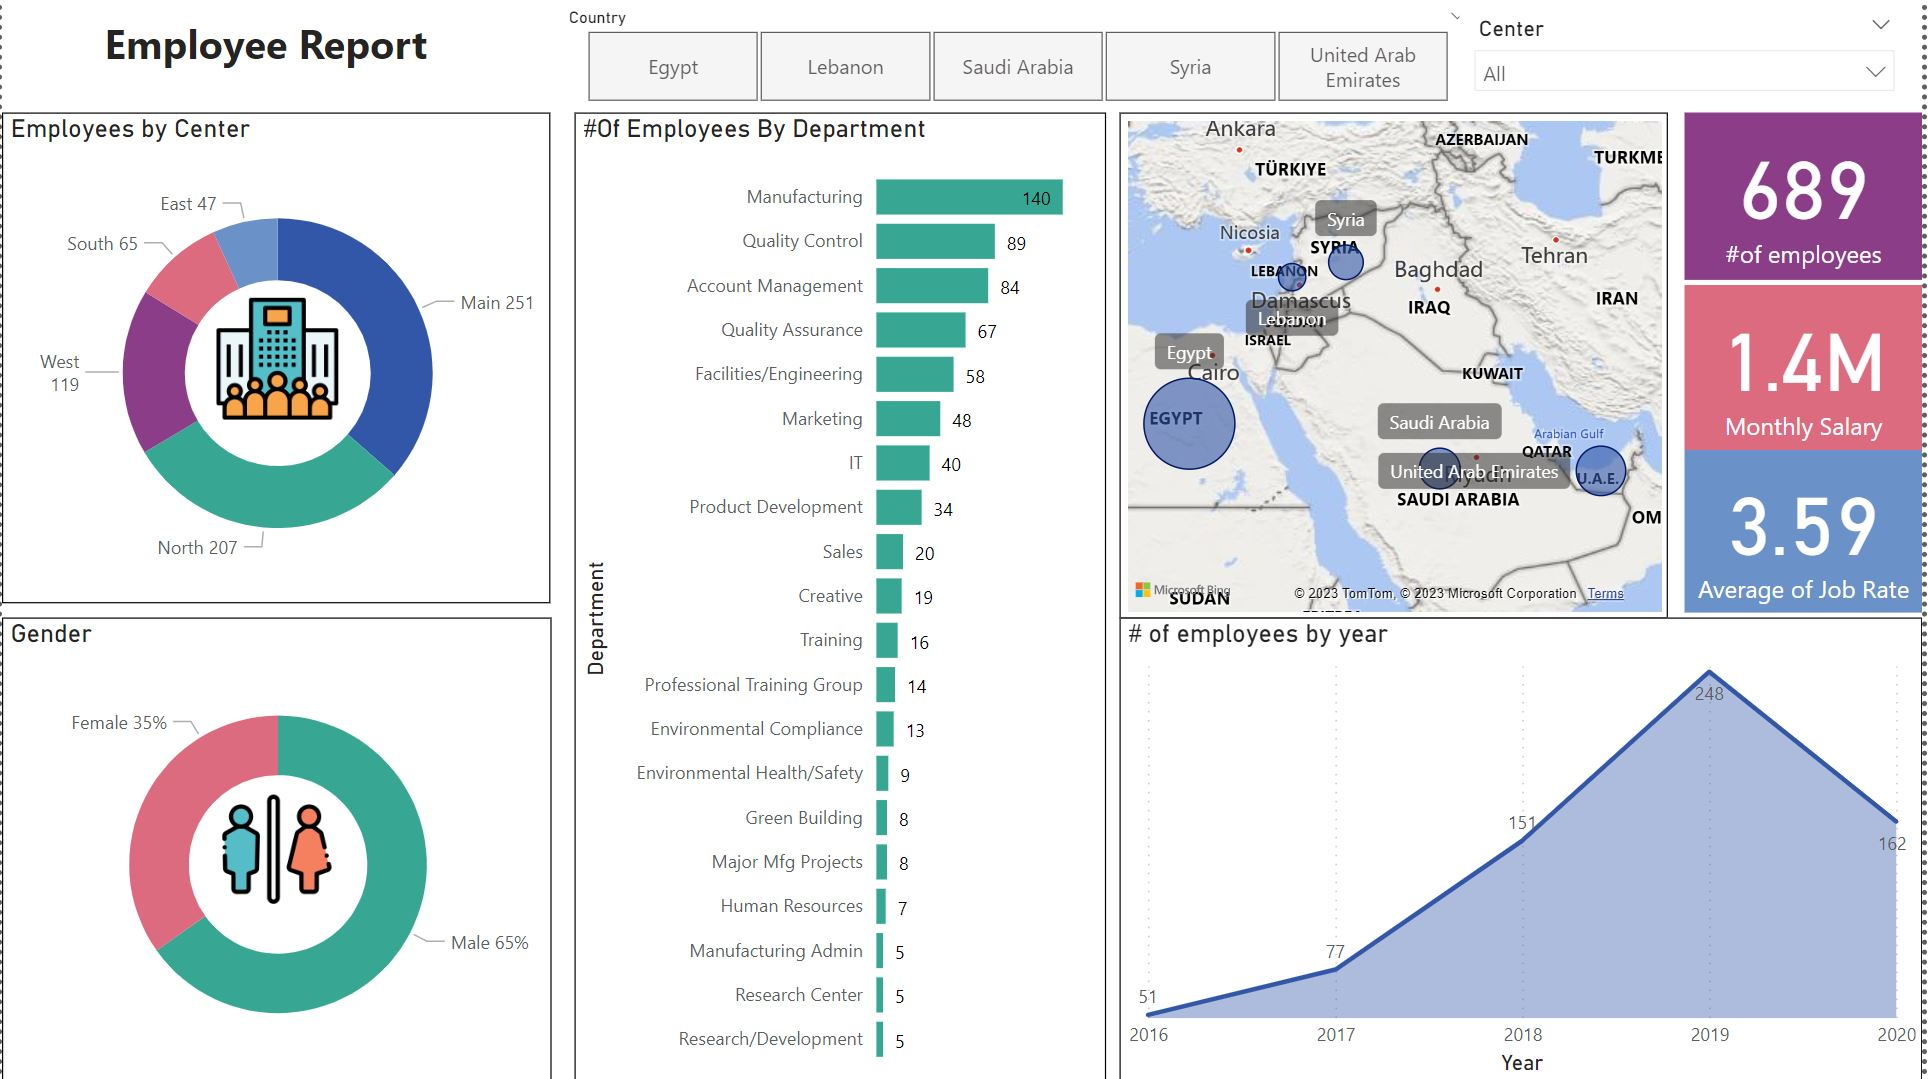

The dashboard page shown, as its layout file describes it:
{"tool":"powerbi","page":{"name":"Page 1","canvas":[1280,720],"ordinal":0},"visuals":[{"type":"clusteredBarChart","title":"#Of Employees By Department","fields":{"Category":["EmpTable.Department"],"Y":["CountNonNull(EmpTable.No)"]},"box":[381.4,74.3,354.3,645.7],"z":0},{"type":"donutChart","title":"Employees by Center","fields":{"Category":["EmpTable.Center"],"Y":["CountNonNull(EmpTable.No)"]},"box":[0,74.3,365.7,327.1],"z":1000},{"type":"donutChart","title":"Gender","fields":{"Category":["EmpTable.Gender"],"Y":["CountNonNull(EmpTable.Gender)"]},"box":[0,411.7,366.4,308.7],"z":2000},{"type":"map","fields":{"Category":["EmpTable.Country"],"Size":["Sum(EmpTable.No)"]},"box":[745.7,74.3,365.7,337.1],"z":3000},{"type":"areaChart","title":"# of employees by year ","fields":{"Category":["EmpTable.Start Date.Variation.Date Hierarchy.Year","EmpTable.Start Date.Variation.Date Hierarchy.Quarter","EmpTable.Start Date.Variation.Date Hierarchy.Month","EmpTable.Start Date.Variation.Date Hierarchy.Day"],"Y":["CountNonNull(EmpTable.No)"]},"box":[745.1,411.7,535.2,308.7],"z":4000},{"type":"card","fields":{"Values":["CountNonNull(EmpTable.No)"]},"box":[1121.4,74.3,158.6,111.4],"z":5000},{"type":"card","fields":{"Values":["Avg(EmpTable.Job Rate)"]},"box":[1121.4,300,158.6,108.6],"z":6000},{"type":"card","fields":{"Values":["Sum(EmpTable.Monthly Salary)"]},"box":[1121.4,190,158.6,110],"z":7000},{"type":"slicer","fields":{"Values":["EmpTable.Country"]},"box":[365.7,0,622.9,74.3],"z":8000},{"type":"slicer","fields":{"Values":["EmpTable.Center"]},"box":[971.4,4.3,300,64.3],"z":8001},{"type":"textbox","box":[62.9,4.3,238.6,64.3],"z":8002},{"type":"image","box":[141.4,522.9,82.9,85.7],"z":8003},{"type":"image","box":[134.3,192.9,97.1,91.4],"z":8004}]}

Visuals, with their boxes in screenshot pixels (x1, y1, x2, y2), scaled from the page's 1280x720 canvas onto the 1928x1079 screenshot:
"#Of Employees By Department" clusteredBarChart: detection(574, 111, 1108, 1078)
"Employees by Center" donutChart: detection(0, 111, 551, 602)
"Gender" donutChart: detection(0, 617, 552, 1078)
map - EmpTable.Country x Sum(EmpTable.No): detection(1123, 111, 1674, 617)
"# of employees by year " areaChart: detection(1122, 617, 1927, 1078)
card - CountNonNull(EmpTable.No): detection(1689, 111, 1927, 278)
card - Avg(EmpTable.Job Rate): detection(1689, 450, 1927, 612)
card - Sum(EmpTable.Monthly Salary): detection(1689, 285, 1927, 450)
slicer - EmpTable.Country: detection(551, 0, 1489, 111)
slicer - EmpTable.Center: detection(1463, 6, 1915, 103)
textbox: detection(95, 6, 454, 103)
image: detection(213, 784, 338, 912)
image: detection(202, 289, 349, 426)
